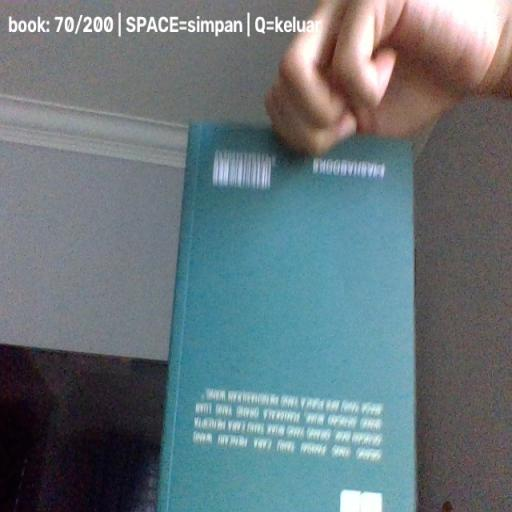Book: (155, 121, 418, 512)
